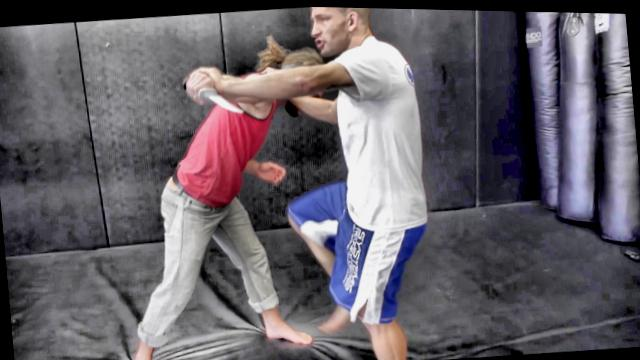knife: (178, 65, 252, 123)
